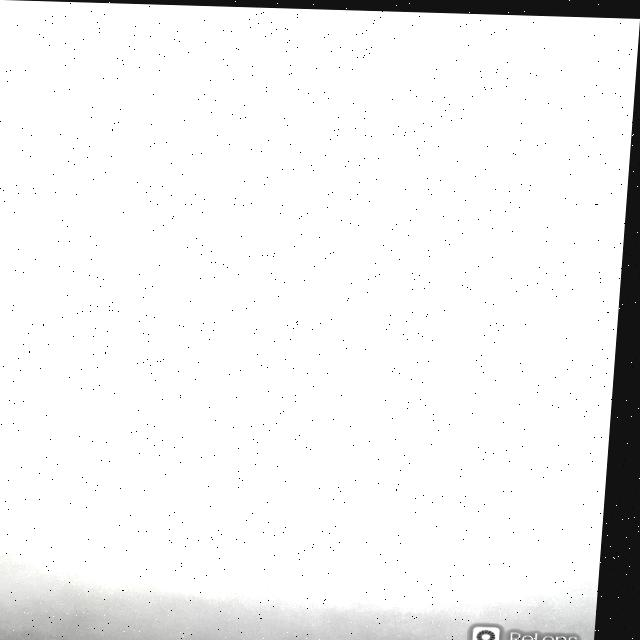Empty: (0, 0, 640, 602)
